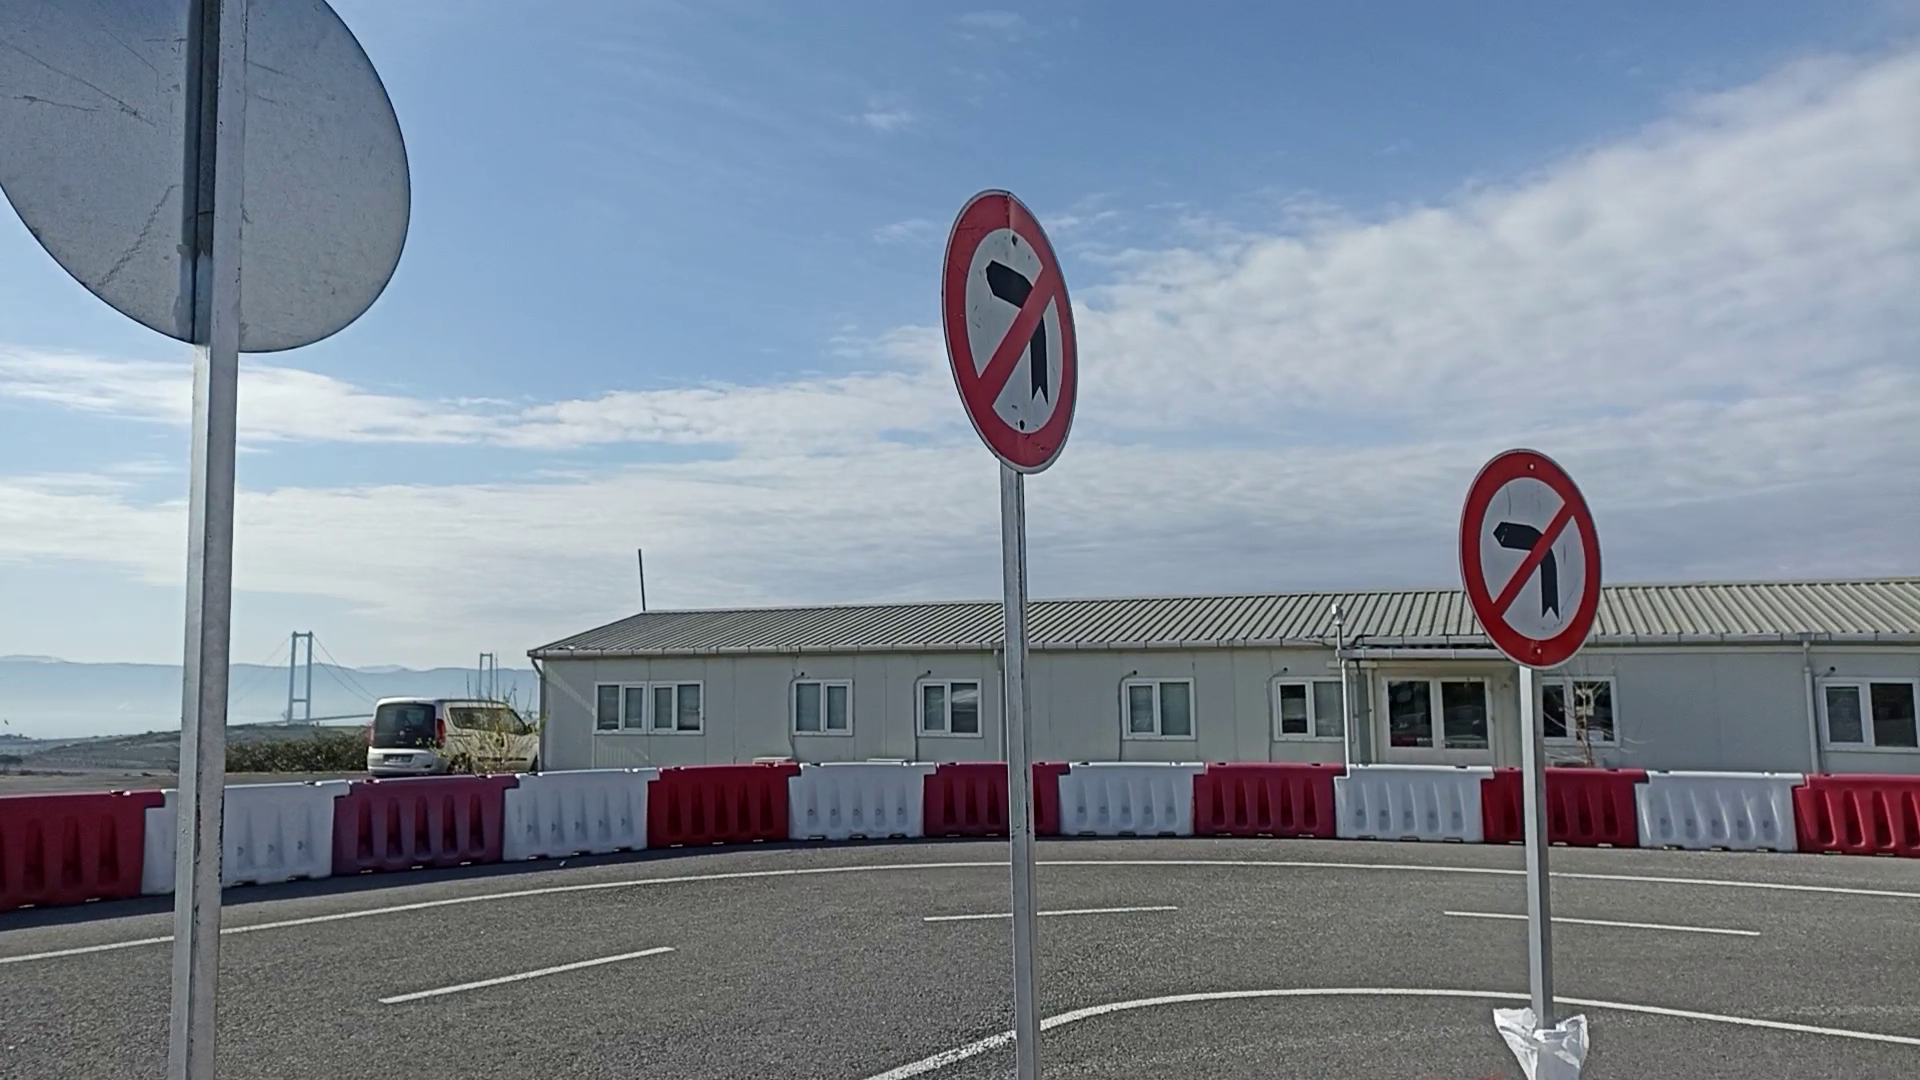noleft: (938, 186, 1083, 477), (1455, 444, 1606, 673)
